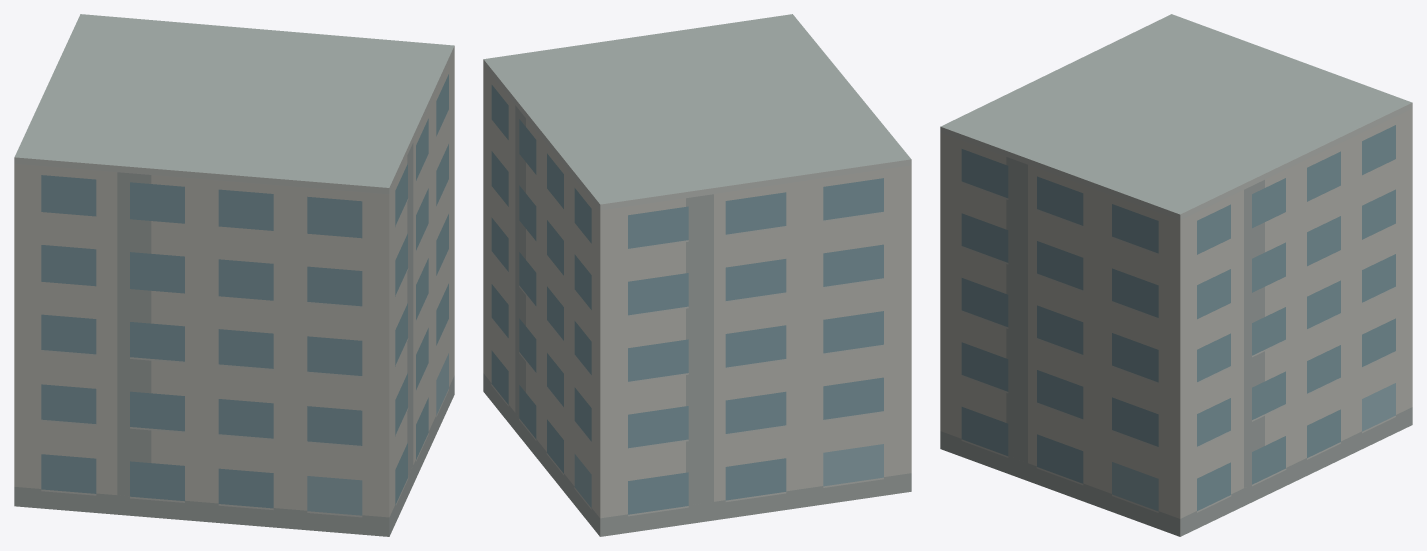
The model's file is survey-upis-33019908.glb.
3 renders of one model, left to right at view 1: azimuth 30°, elevation 25°; view 2: azimuth 150°, elevation 25°; view 3: azimuth 270°, elevation 25°, orthographic. The views are drawn at different scales.
Visible parts, largest first — view 1: survey-upis-33019908.tmp; view 2: survey-upis-33019908.tmp; view 3: survey-upis-33019908.tmp.
Part boxes in pixels (left/top/right/bottom): survey-upis-33019908.tmp: left=14, top=14, right=454, bottom=536; survey-upis-33019908.tmp: left=483, top=14, right=911, bottom=536; survey-upis-33019908.tmp: left=940, top=14, right=1412, bottom=536.
Bounding box in the file's own units: 17.62 × 13.2 × 17.53.
